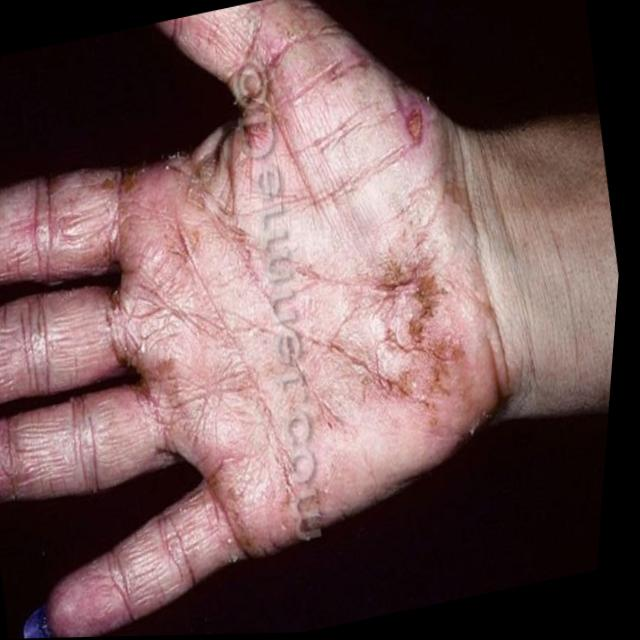Eczema: (362, 263, 499, 449), (0, 195, 53, 499), (385, 86, 436, 156)
